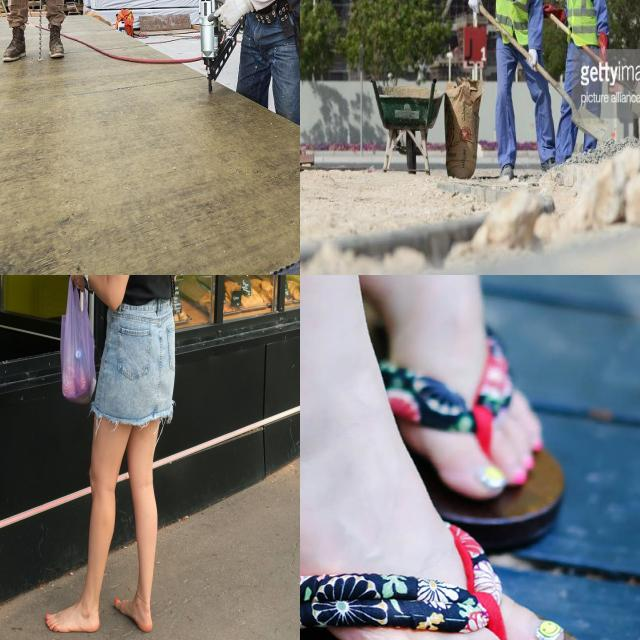Barefoots: (46, 602, 100, 632), (114, 598, 153, 632)
Sandals: (300, 284, 631, 640)
boots: (0, 23, 30, 66), (44, 23, 66, 61)
hand_glove: (215, 0, 254, 39), (540, 0, 566, 28), (522, 42, 540, 82), (465, 0, 484, 20)
person: (172, 0, 300, 134), (487, 0, 548, 169), (563, 0, 607, 154)
vest: (494, 0, 542, 48), (566, 0, 604, 42)
